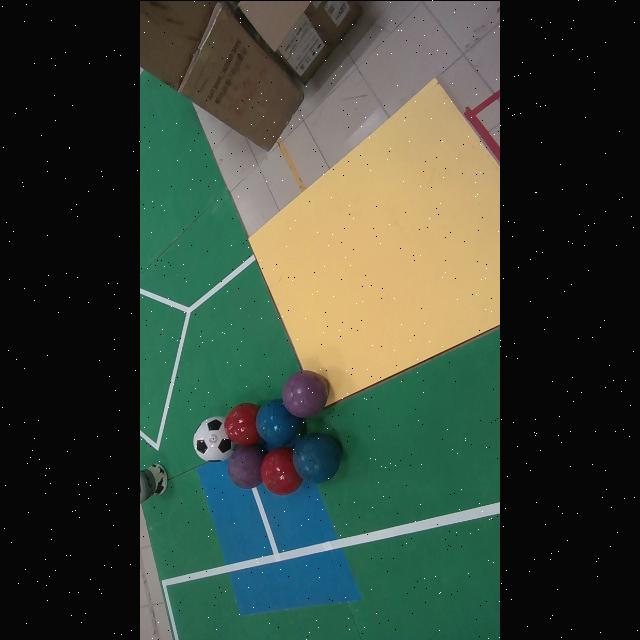B: (293, 432, 341, 482), (256, 397, 301, 445)
P: (283, 371, 329, 415), (227, 444, 267, 487)
R: (262, 446, 303, 494), (225, 401, 260, 444)
